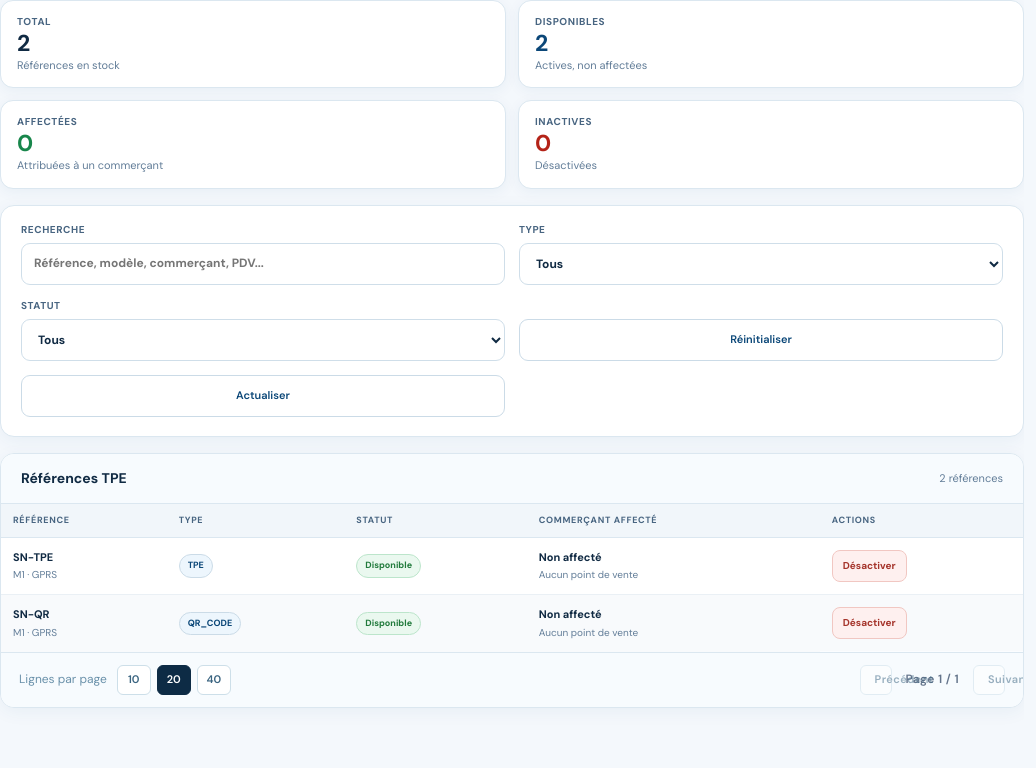
Test: SupervisorTpeStockPage › filtre par type compatible
This screenshot has width=1036, height=768.
Expected: the text "SN-TPE" is shown, x1=13 y1=550 x2=53 y2=564
Select "QR Code" in the dropdown labelled "Type": (761, 264) x1=519 y1=243 x2=1003 y2=285
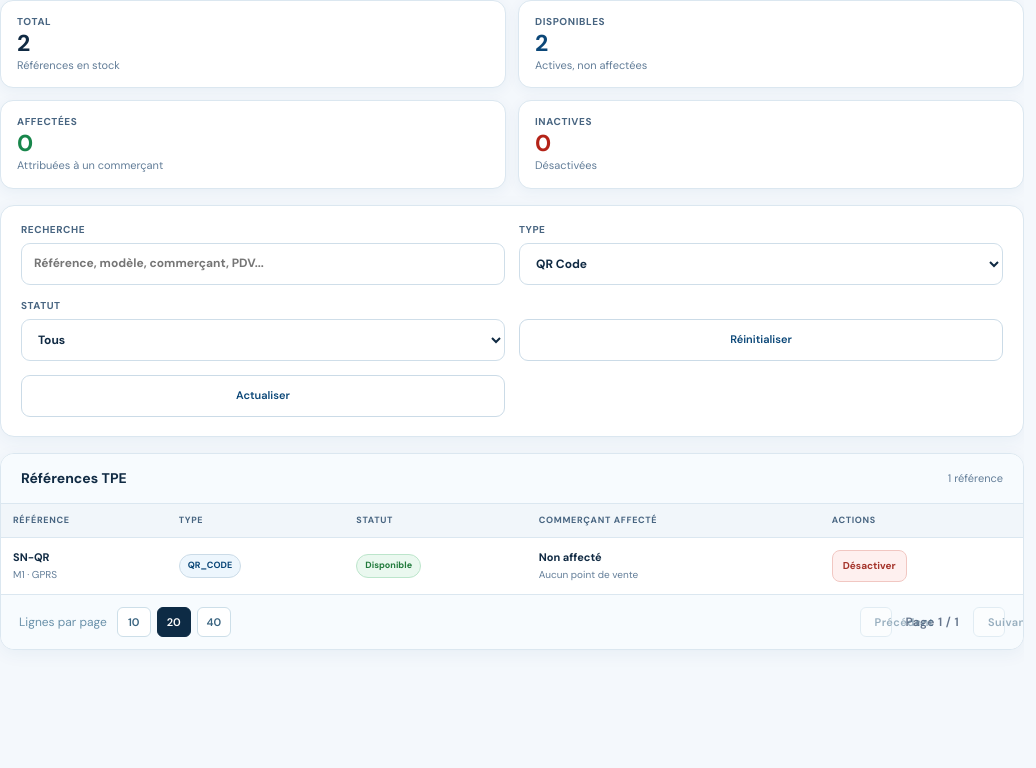
Expected: the text "SN-QR" is shown, x1=13 y1=550 x2=50 y2=564
Expected: the text "SN-TPE" is gone
